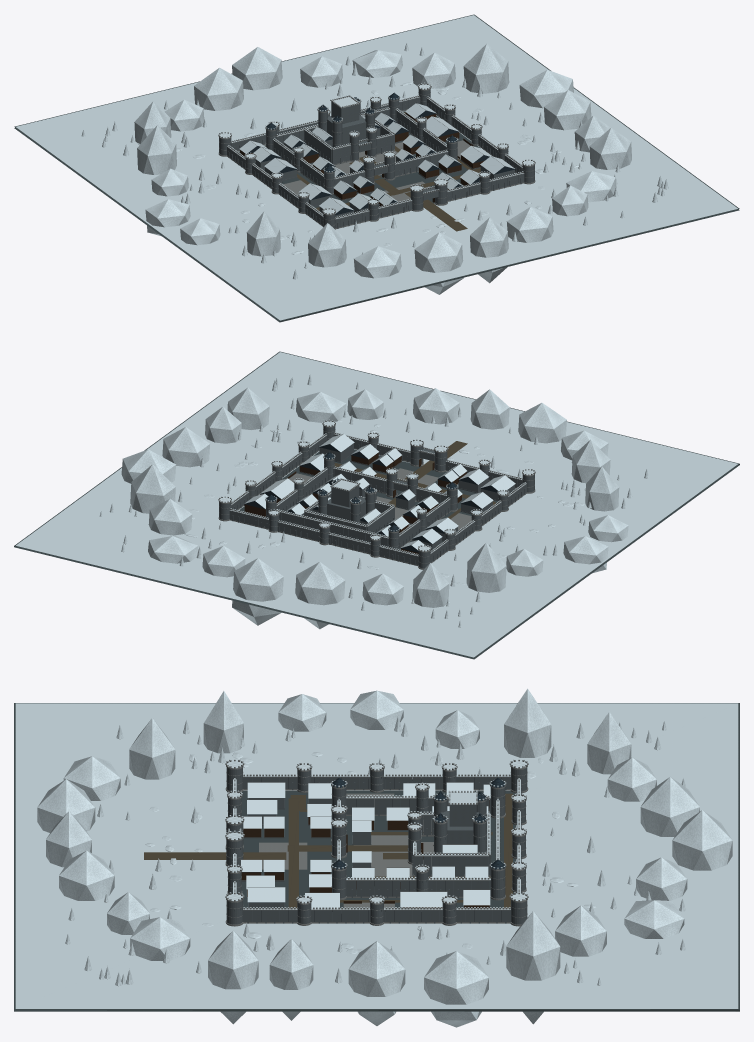
The model's file is winterfell_fortress_lod1.glb.
The picture shows the model from 3 angles, top to bottom: view 1: azimuth 30°, elevation 25°; view 2: azimuth 150°, elevation 25°; view 3: azimuth 270°, elevation 25°; orthographic projection. The views are drawn at different scales.
Visible parts, largest first — view 1: ENV_WF_Snow, ENV_WF_AgedStone, ENV_WF_CutStone, ENV_WF_FrozenGround, ENV_WF_SlateRoof, ENV_WF_WeatheredWood, ENV_WF_Gravel; view 2: ENV_WF_Snow, ENV_WF_AgedStone, ENV_WF_CutStone, ENV_WF_FrozenGround, ENV_WF_SlateRoof, ENV_WF_WeatheredWood, ENV_WF_Gravel; view 3: ENV_WF_Snow, ENV_WF_AgedStone, ENV_WF_CutStone, ENV_WF_FrozenGround, ENV_WF_Gravel, ENV_WF_WeatheredWood, ENV_WF_SlateRoof.
Boxes of the visible parts, left/top/right/bottom form: ENV_WF_Snow: left=16, top=15, right=737, bottom=320; ENV_WF_AgedStone: left=219, top=89, right=534, bottom=228; ENV_WF_CutStone: left=218, top=83, right=535, bottom=229; ENV_WF_FrozenGround: left=14, top=14, right=739, bottom=322; ENV_WF_SlateRoof: left=248, top=93, right=515, bottom=215; ENV_WF_WeatheredWood: left=240, top=112, right=484, bottom=206; ENV_WF_Gravel: left=239, top=112, right=480, bottom=231; ENV_WF_Snow: left=16, top=352, right=737, bottom=657; ENV_WF_AgedStone: left=219, top=426, right=534, bottom=568; ENV_WF_CutStone: left=218, top=420, right=535, bottom=569; ENV_WF_FrozenGround: left=14, top=351, right=739, bottom=659; ENV_WF_SlateRoof: left=244, top=444, right=497, bottom=552; ENV_WF_WeatheredWood: left=125, top=418, right=581, bottom=554; ENV_WF_Gravel: left=334, top=441, right=495, bottom=519; ENV_WF_Snow: left=15, top=688, right=738, bottom=1027; ENV_WF_AgedStone: left=226, top=767, right=527, bottom=924; ENV_WF_CutStone: left=225, top=760, right=528, bottom=926; ENV_WF_FrozenGround: left=14, top=703, right=739, bottom=1011; ENV_WF_Gravel: left=144, top=793, right=512, bottom=908; ENV_WF_WeatheredWood: left=106, top=800, right=599, bottom=985; ENV_WF_SlateRoof: left=242, top=778, right=505, bottom=902.
Size of the model in its own units: 480 by 85.98 by 480.
9 materials, 7 textured.
